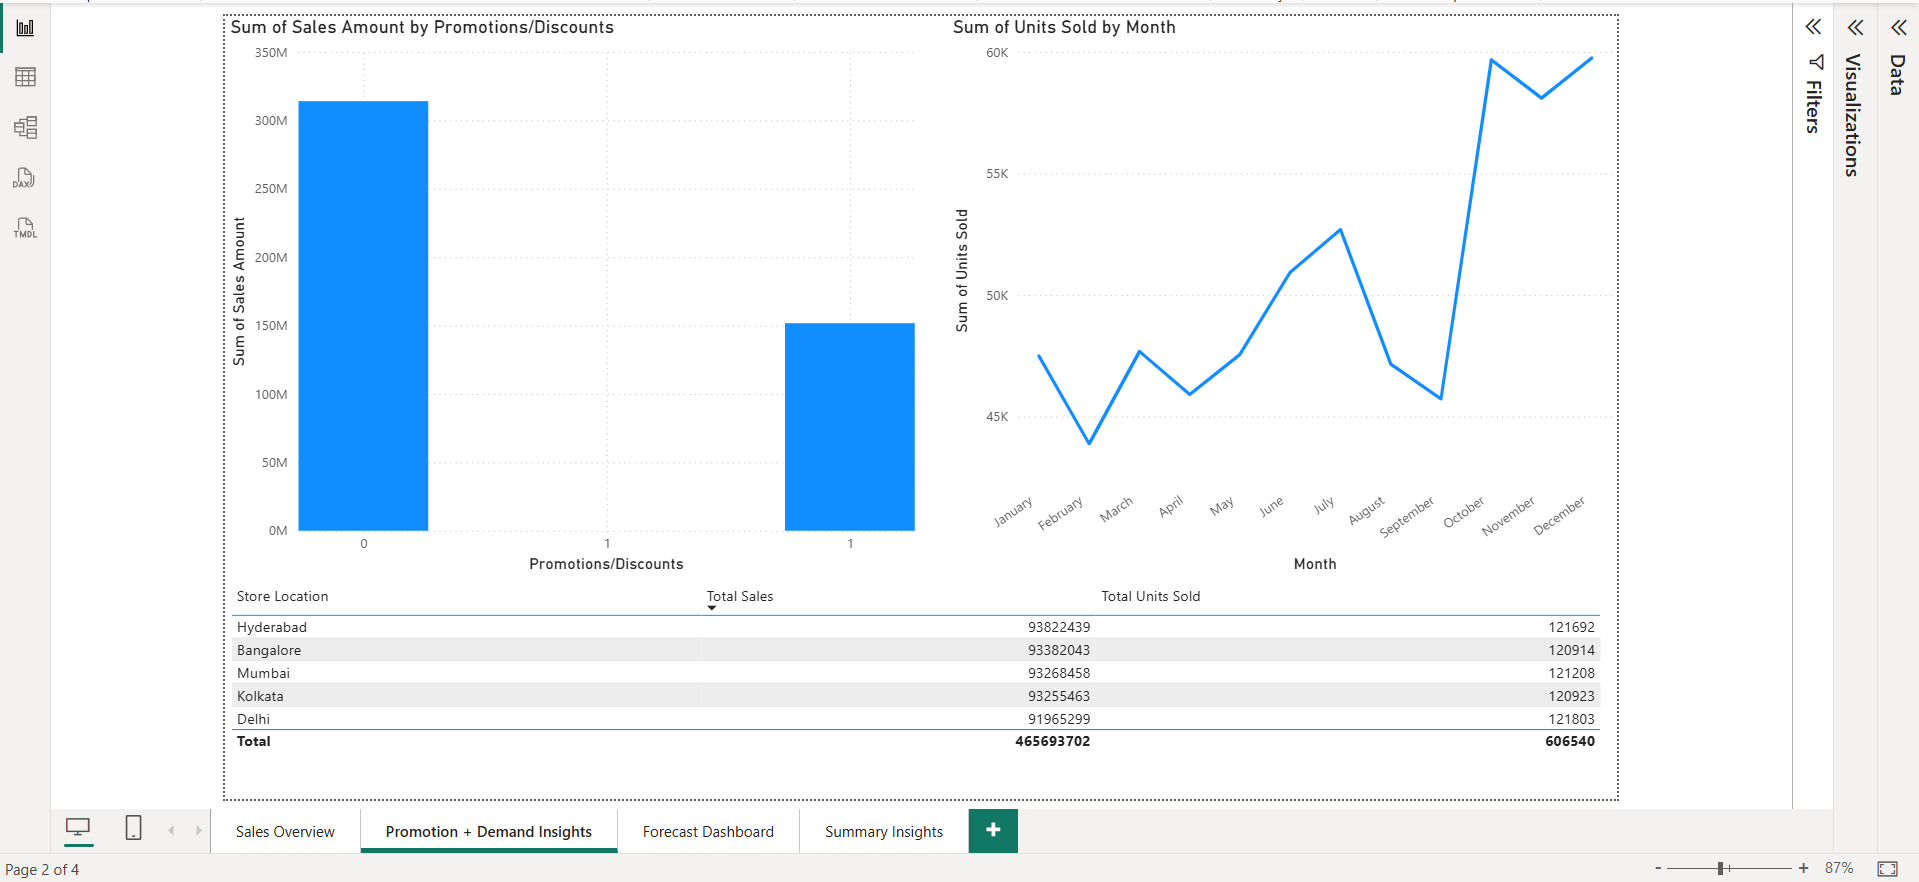

The page's visual inventory and layout, read from the dashboard file:
{"tool":"powerbi","page":{"name":"Promotion + Demand Insights","canvas":[1280,720],"ordinal":1},"visuals":[{"type":"clusteredColumnChart","fields":{"Category":["retail_sales_forecasting_dataset.Promotions/Discounts"],"Y":["Sum(retail_sales_forecasting_dataset.Sales Amount)"]},"box":[0,0,639.5,517.3],"z":0},{"type":"lineChart","fields":{"Category":["DateTable.Date.Variation.Date Hierarchy.Month"],"Y":["Sum(retail_sales_forecasting_dataset.Units Sold)"]},"box":[664.2,0,616.1,517.3],"z":1000},{"type":"tableEx","fields":{"Values":["retail_sales_forecasting_dataset.Store Location","retail_sales_forecasting_dataset.Total Sales","retail_sales_forecasting_dataset.Total Units Sold"]},"box":[0,517.3,1280.3,203.1],"z":2000}]}

Visuals, with their boxes on the page's 1280x720 design canvas (x1, y1, x2, y2). These are canvas units, not pixel positions in the 1919x882 screenshot, which may show the page scaled, cropped or inside an application window:
clusteredColumnChart - retail_sales_forecasting_dataset.Promotions/Discounts x Sum(retail_sales_forecasting_dataset.Sales Amount): (x1=0, y1=0, x2=640, y2=517)
lineChart - DateTable.Date.Variation.Date Hierarchy.Month x Sum(retail_sales_forecasting_dataset.Units Sold): (x1=664, y1=0, x2=1280, y2=517)
tableEx - retail_sales_forecasting_dataset.Store Location x retail_sales_forecasting_dataset.Total Sales: (x1=0, y1=517, x2=1280, y2=720)
